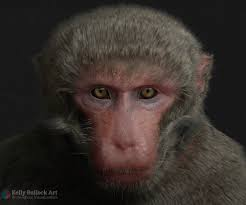monkey: (23, 9, 245, 187)
